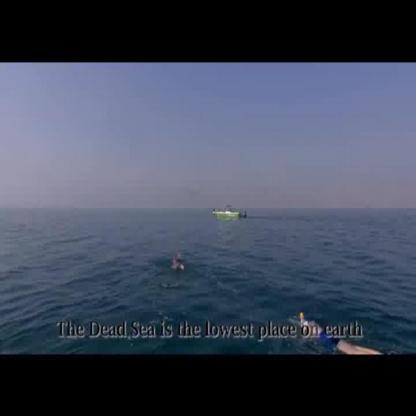Boat: (208, 201, 252, 224)
